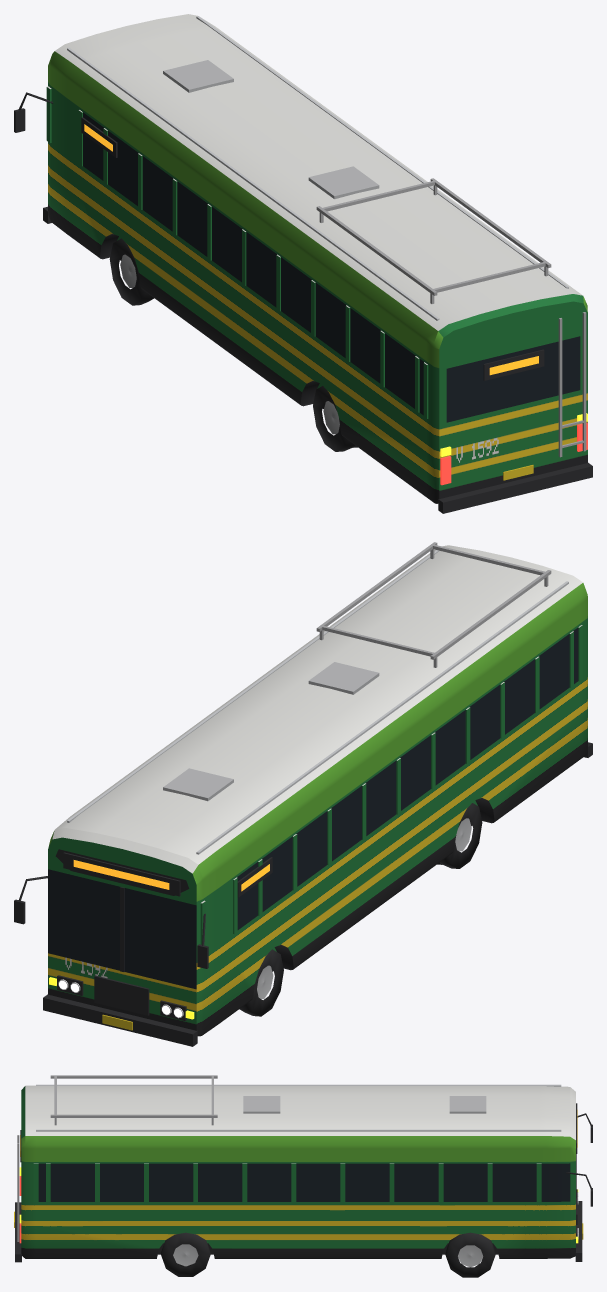
Rendered from bus_intercity_lod1.glb.
3 renders of one model, top to bottom at view 1: azimuth 30°, elevation 25°; view 2: azimuth 150°, elevation 25°; view 3: azimuth 270°, elevation 25°, orthographic. The views are drawn at different scales.
Parts seen in each view (by area): view 1: body, wheel_fl, wheel_rl, dest_rear; view 2: body, dest_front, wheel_fl, wheel_rl; view 3: body, wheel_fr, wheel_rr.
Boxes of the visible parts, x1,y1,x2,y2 form: body: (14,14,592,513); wheel_fl: (109,238,153,305); wheel_rl: (313,386,357,451); dest_rear: (483,349,544,380); body: (14,542,592,1046); dest_front: (63,852,180,896); wheel_fl: (239,949,283,1016); wheel_rl: (437,803,482,868); body: (14,1075,592,1262); wheel_fr: (445,1232,495,1277); wheel_rr: (160,1232,210,1276).
Bounding box in the file's own units: 3.22 × 3.57 × 11.8.
2 materials, 2 textured.
